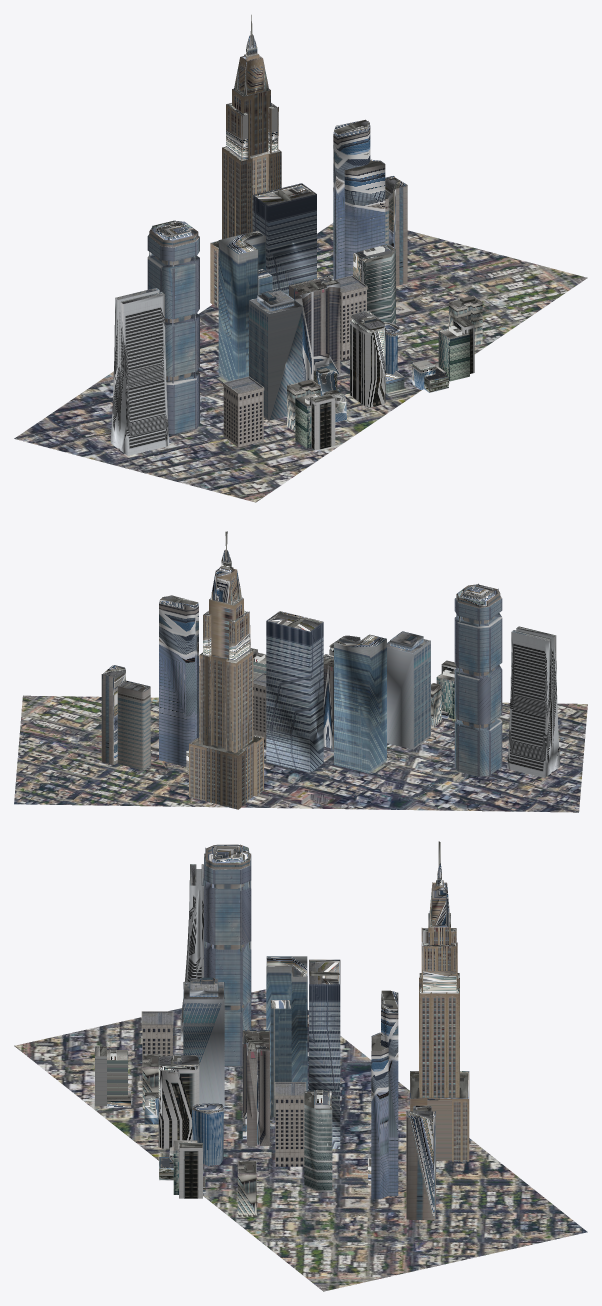
Rendered from city_buildings2.glb.
3 views of the same model, one above another, from view 1: azimuth 30°, elevation 25°; view 2: azimuth 150°, elevation 25°; view 3: azimuth 270°, elevation 25° (orthographic). The views are drawn at different scales.
Bounding box in the file's own units: 122 × 60 × 97.32.
2 materials, 2 textured.
